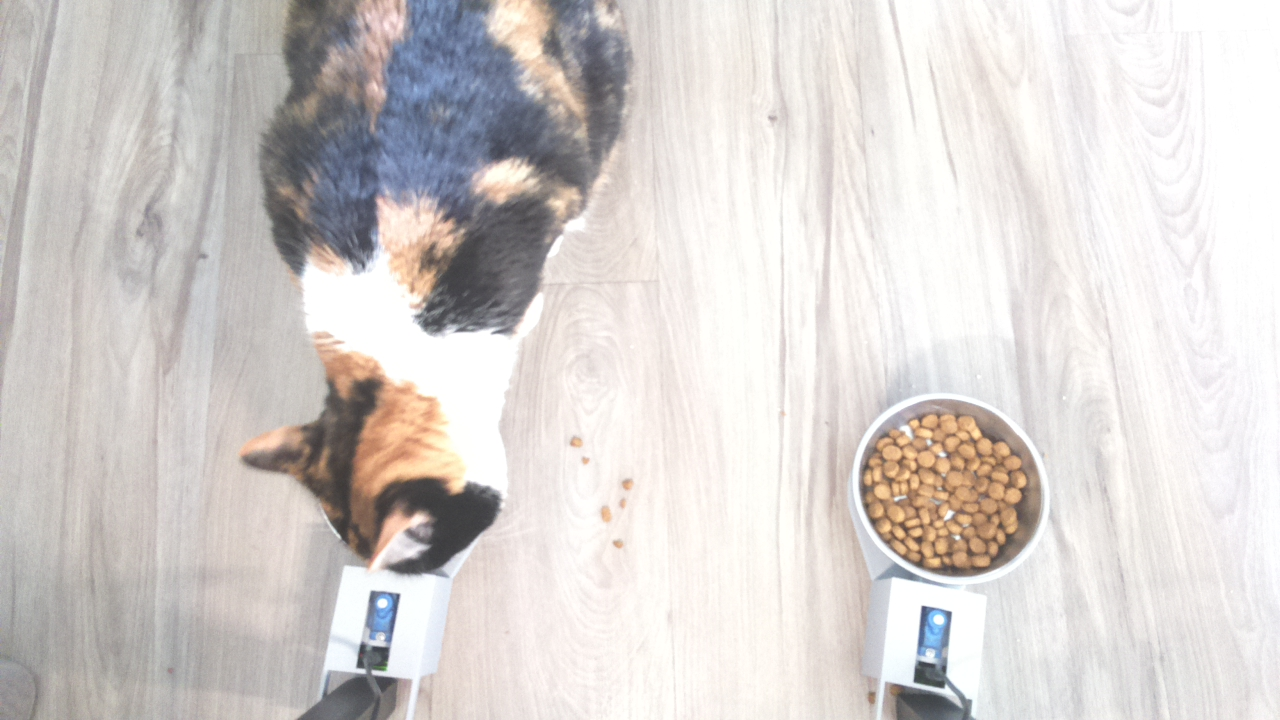bella_eating: (227, 251, 532, 596)
open_bowl: (850, 392, 1050, 585)
